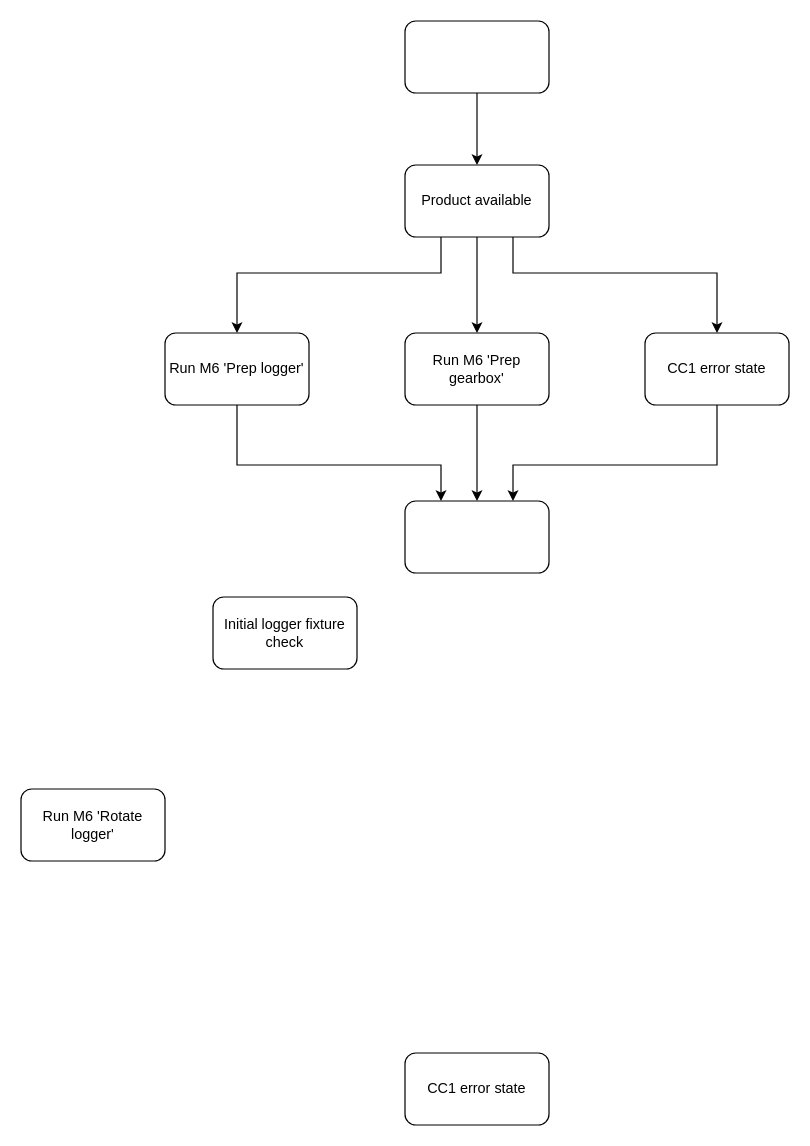
The diagram is 810 pixels wide and 1146 high, and some of its shapes have lost their labels. Here are the shapes that lost their labels. From the top down, the centre of each, then its label:
At [476,56]: "Idle state".
At [476,536]: "Run M6 'Tool handling'".
